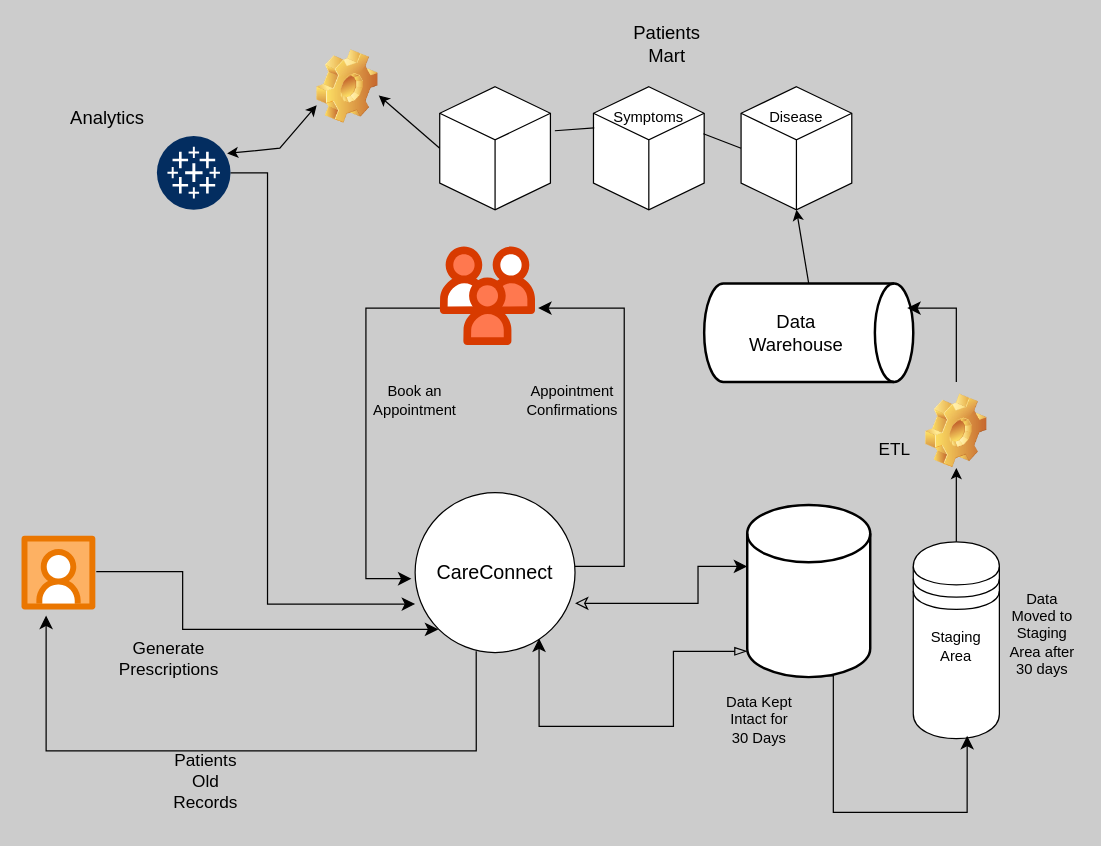
Image size: 1101x846. Some labels were removed from this diagram. The shapes that lost their labels are listed below. From the top down, each one's centre as x and y in pixels, then its label:
At pixel 494 147: "Age".
At pixel 808 590: "Operational Transaction".
